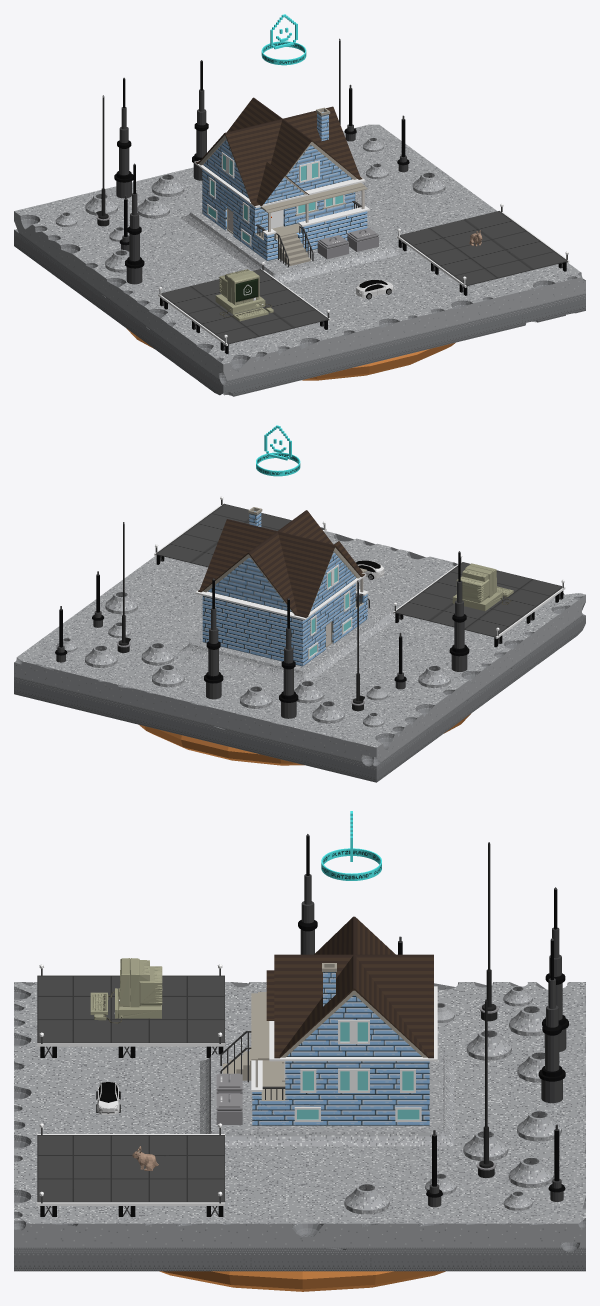
3 renders of one model, top to bottom at view 1: azimuth 30°, elevation 25°; view 2: azimuth 150°, elevation 25°; view 3: azimuth 270°, elevation 25°, orthographic. The views are drawn at different scales.
Visible parts, largest first — view 1: Cube.027, Cube.547, Cube.026, Cube.025, Cube.028, OBJRANDOM_RETRO_PC, UNDERGROUND_PIZZA, Cylinder.021, Cylinder.020, Cylinder.017, TYPE_PREMIUM, Cube.029 (+6 smaller); view 2: Cube.027, Cube.547, Cube.025, Cube.028, Cube.026, OBJRANDOM_RETRO_PC, UNDERGROUND_PIZZA, Cylinder.021, Cylinder.020, Cylinder.017, TYPE_PREMIUM, Cylinder.030 (+7 smaller); view 3: Cube.027, Cube.547, Cube.026, Cube.025, Cube.028, UNDERGROUND_PIZZA, OBJRANDOM_RETRO_PC, Cylinder.017, Cylinder.020, Cylinder.021, TYPE_PREMIUM, Cylinder.033 (+11 smaller).
Part boxes in pixels (x1,y1,x2,y2): Cube.027: [14, 124, 585, 396]; Cube.547: [194, 97, 369, 267]; Cube.026: [397, 203, 569, 295]; Cube.025: [158, 262, 330, 353]; Cube.028: [181, 209, 400, 283]; OBJRANDOM_RETRO_PC: [215, 269, 273, 321]; UNDERGROUND_PIZZA: [126, 328, 455, 380]; Cylinder.021: [125, 163, 144, 284]; Cylinder.020: [114, 77, 133, 198]; Cylinder.017: [192, 60, 208, 180]; TYPE_PREMIUM: [261, 14, 306, 65]; Cube.029: [317, 235, 348, 259]; Cube.027: [14, 531, 585, 782]; Cube.547: [195, 507, 369, 666]; Cube.025: [393, 555, 565, 647]; Cube.028: [179, 604, 395, 682]; Cube.026: [154, 496, 326, 567]; OBJRANDOM_RETRO_PC: [452, 563, 513, 611]; UNDERGROUND_PIZZA: [139, 714, 470, 765]; Cylinder.021: [449, 551, 469, 671]; Cylinder.020: [279, 598, 298, 718]; Cylinder.017: [204, 578, 223, 699]; TYPE_PREMIUM: [256, 425, 300, 476]; Cylinder.030: [141, 642, 174, 665]; Cube.027: [14, 982, 585, 1271]; Cube.547: [220, 916, 437, 1125]; Cube.026: [37, 1123, 224, 1216]; Cube.025: [37, 964, 224, 1057]; Cube.028: [200, 1054, 454, 1146]; UNDERGROUND_PIZZA: [159, 1271, 445, 1291]; OBJRANDOM_RETRO_PC: [90, 958, 162, 1023]; Cylinder.017: [538, 938, 565, 1103]; Cylinder.020: [542, 887, 568, 1051]; Cylinder.021: [298, 834, 317, 954]; TYPE_PREMIUM: [321, 811, 381, 880]; Cylinder.033: [344, 1183, 389, 1214].
Size of the model in its own units: 4000 by 2915 by 4000.
41 materials, 6 textured.
